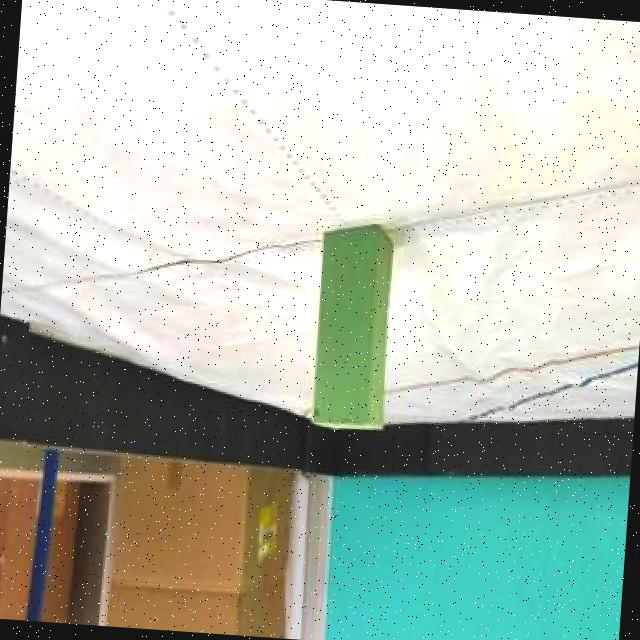greenbox: (310, 218, 400, 433)
